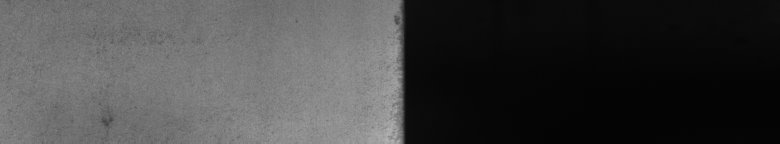ib: (88, 32, 175, 132)
